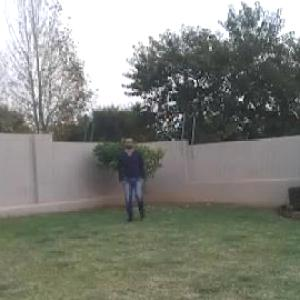follow: (118, 130, 146, 223)
